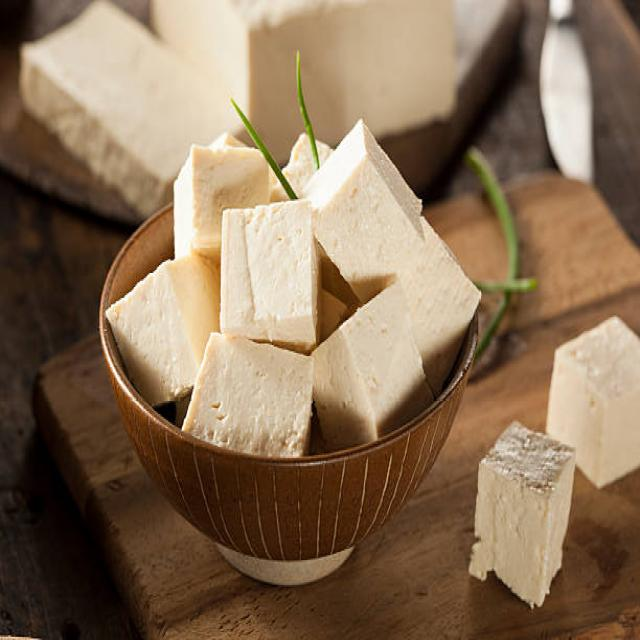Tofu Block: (475, 423, 576, 611), (314, 129, 420, 294), (549, 312, 640, 484), (194, 327, 314, 454), (218, 199, 316, 348), (312, 294, 420, 420), (116, 257, 207, 393), (172, 146, 215, 256)
